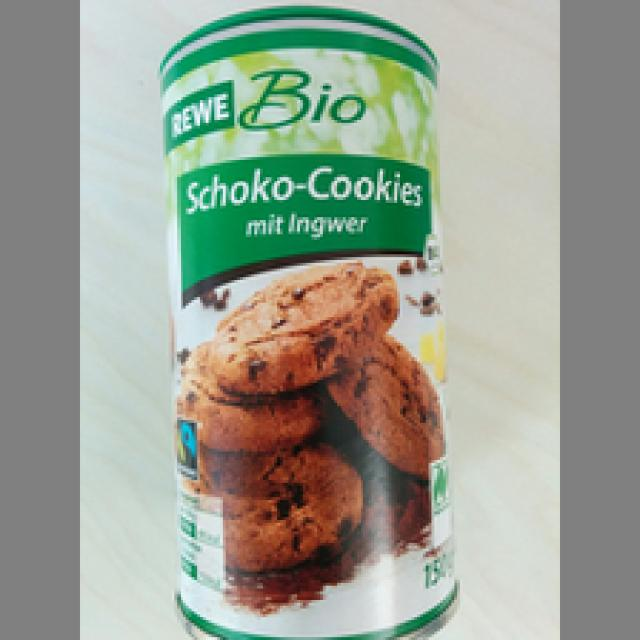groceries: (152, 3, 457, 637)
